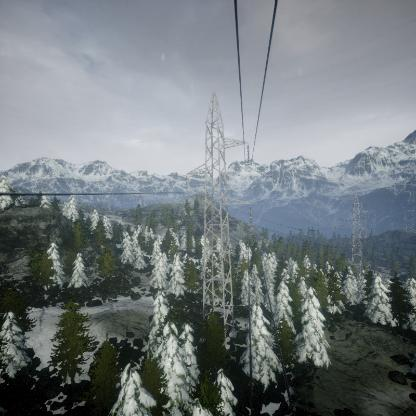tower: (182, 86, 251, 336), (341, 195, 372, 268)
